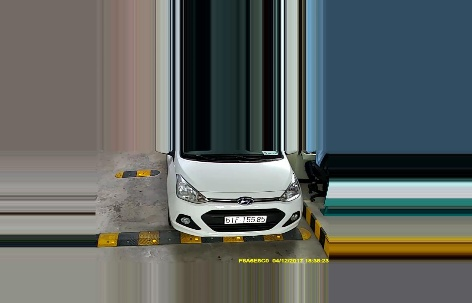plate: (222, 212, 274, 224)
